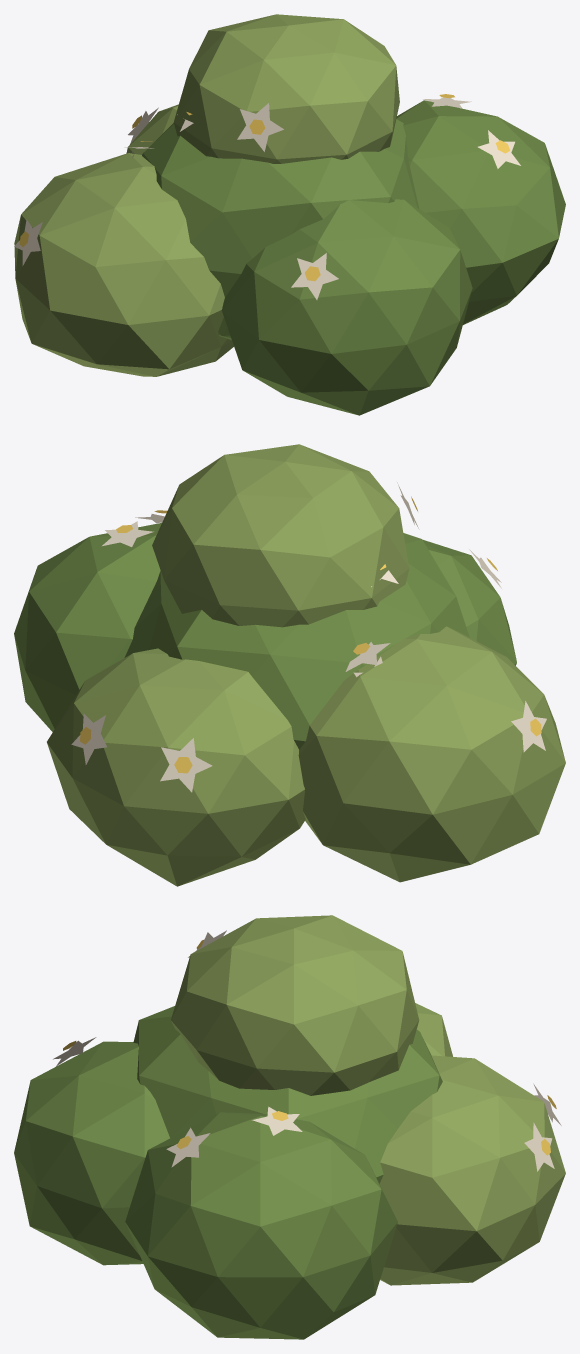
The model's file is Bush_Flower.glb.
3 views of the same model, one above another, from view 1: azimuth 30°, elevation 25°; view 2: azimuth 150°, elevation 25°; view 3: azimuth 270°, elevation 25° (orthographic). The views are drawn at different scales.
Visible parts, largest first — view 1: Bush_Flower; view 2: Bush_Flower; view 3: Bush_Flower.
Part boxes in pixels (x1,y1,x2,y2): Bush_Flower: (14,14,565,415); Bush_Flower: (14,444,565,886); Bush_Flower: (14,915,565,1339).
Bounding box in the file's own units: 1.4 × 0.8932 × 1.29.
